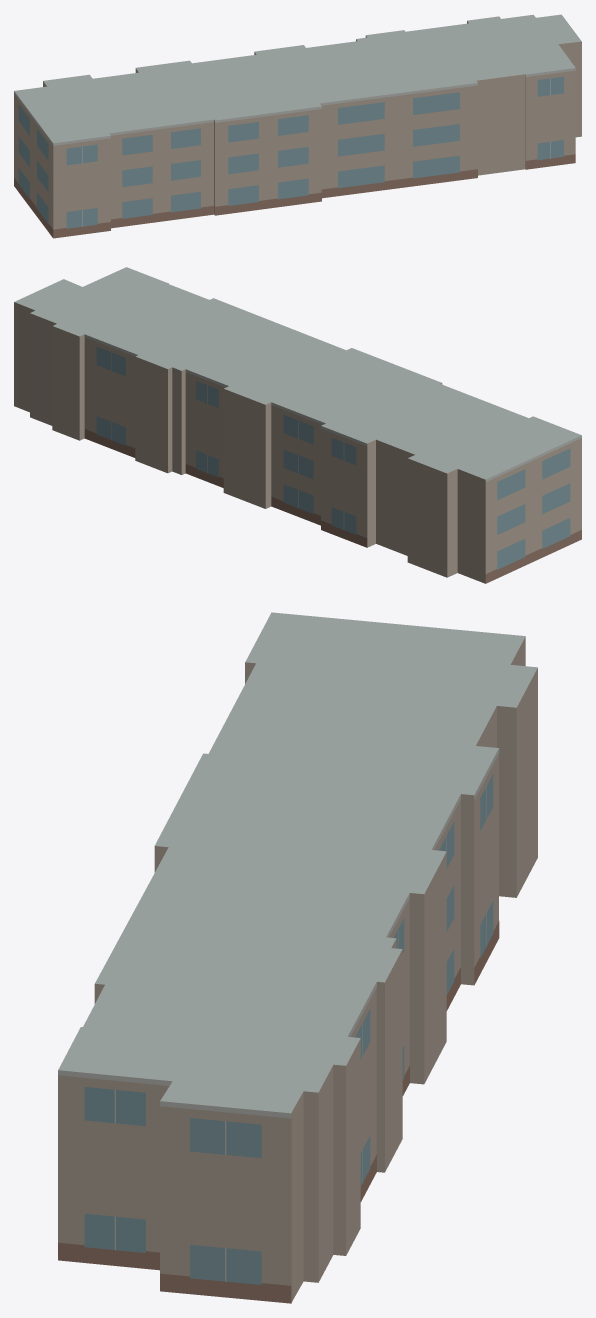
File: survey-upis-32808776.glb
3 views of the same model, one above another, from view 1: azimuth 30°, elevation 25°; view 2: azimuth 150°, elevation 25°; view 3: azimuth 270°, elevation 25° (orthographic). The views are drawn at different scales.
Visible parts, largest first — view 1: survey-upis-32808776.tmp; view 2: survey-upis-32808776.tmp; view 3: survey-upis-32808776.tmp.
Boxes of the visible parts, box(x1,y1,x2,y2) form: survey-upis-32808776.tmp: box(14, 14, 581, 238); survey-upis-32808776.tmp: box(14, 267, 581, 583); survey-upis-32808776.tmp: box(58, 612, 537, 1303).
Size of the model in its own units: 51.7 by 9.15 by 20.93.
